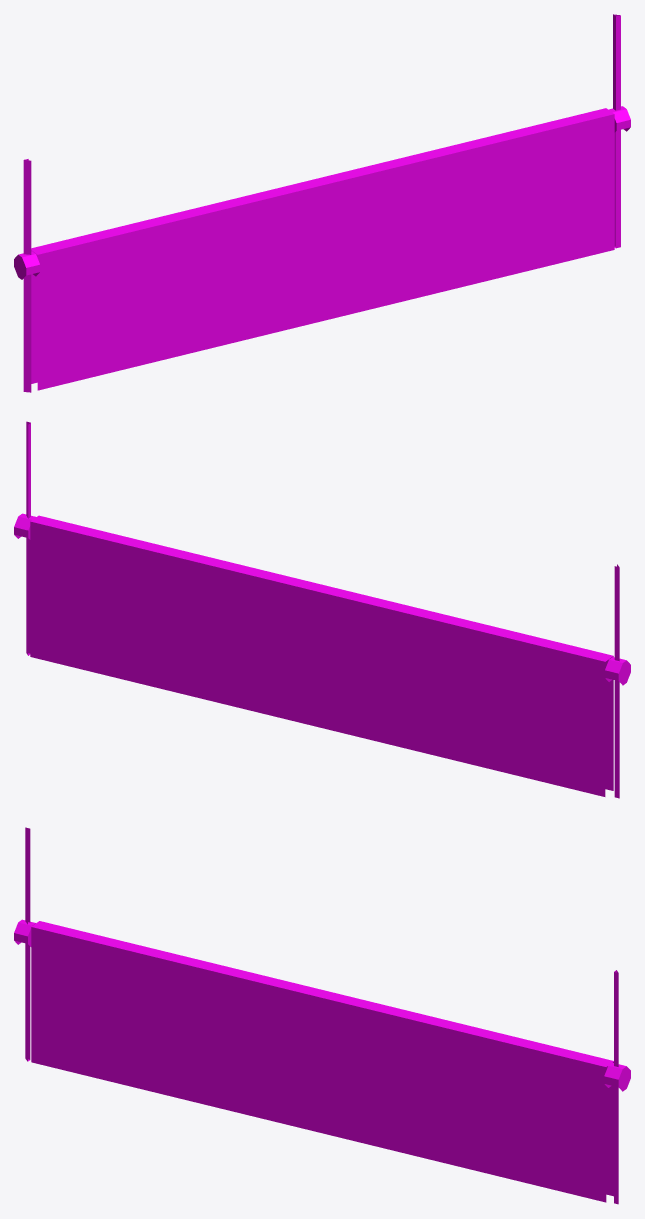
Rendered from cave grillcage.obj.
3 views of the same model, one above another, from view 1: azimuth 30°, elevation 25°; view 2: azimuth 150°, elevation 25°; view 3: azimuth 330°, elevation 25° (orthographic).
Visible parts, largest first — view 1: cave grillcage_back; view 2: cave grillcage_back; view 3: cave grillcage_back.
Boxes of the visible parts, <box> form: cave grillcage_back: <box>14,14,630,392</box>; cave grillcage_back: <box>14,421,630,798</box>; cave grillcage_back: <box>14,827,630,1204</box>.
Bounding box in the file's own units: 13.44 × 4.92 × 0.51.
